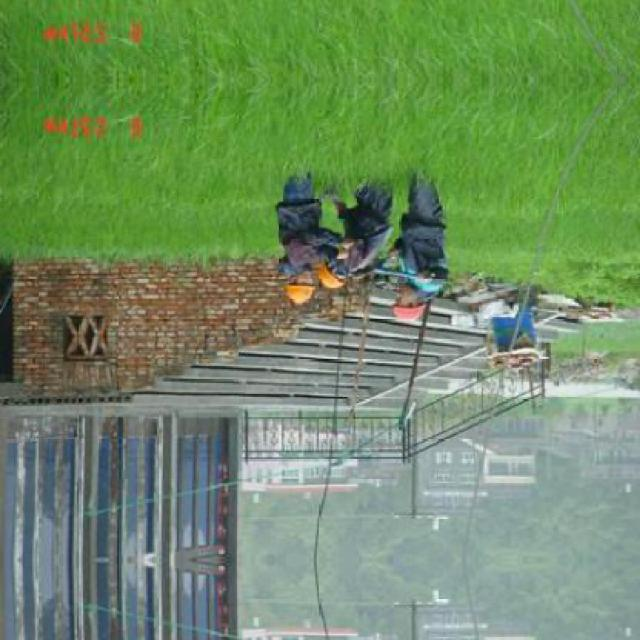con casco: (250, 238, 320, 322), (380, 262, 436, 330), (310, 253, 364, 305)
